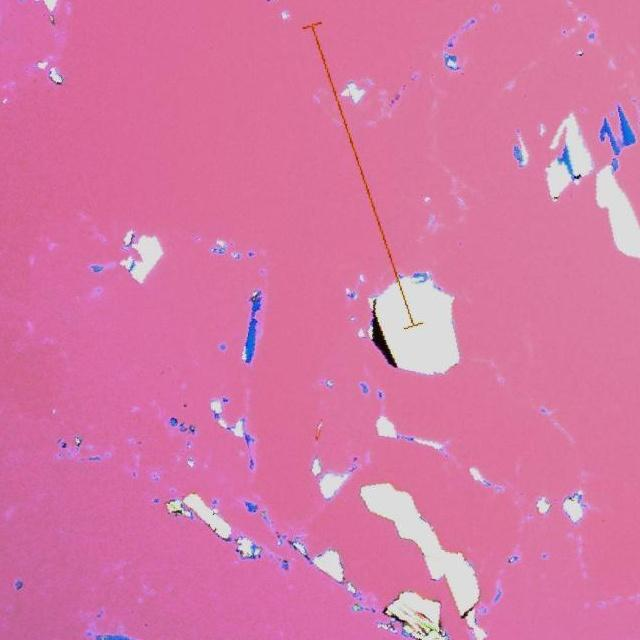monolayer-eWW4: (615, 135, 624, 149)
